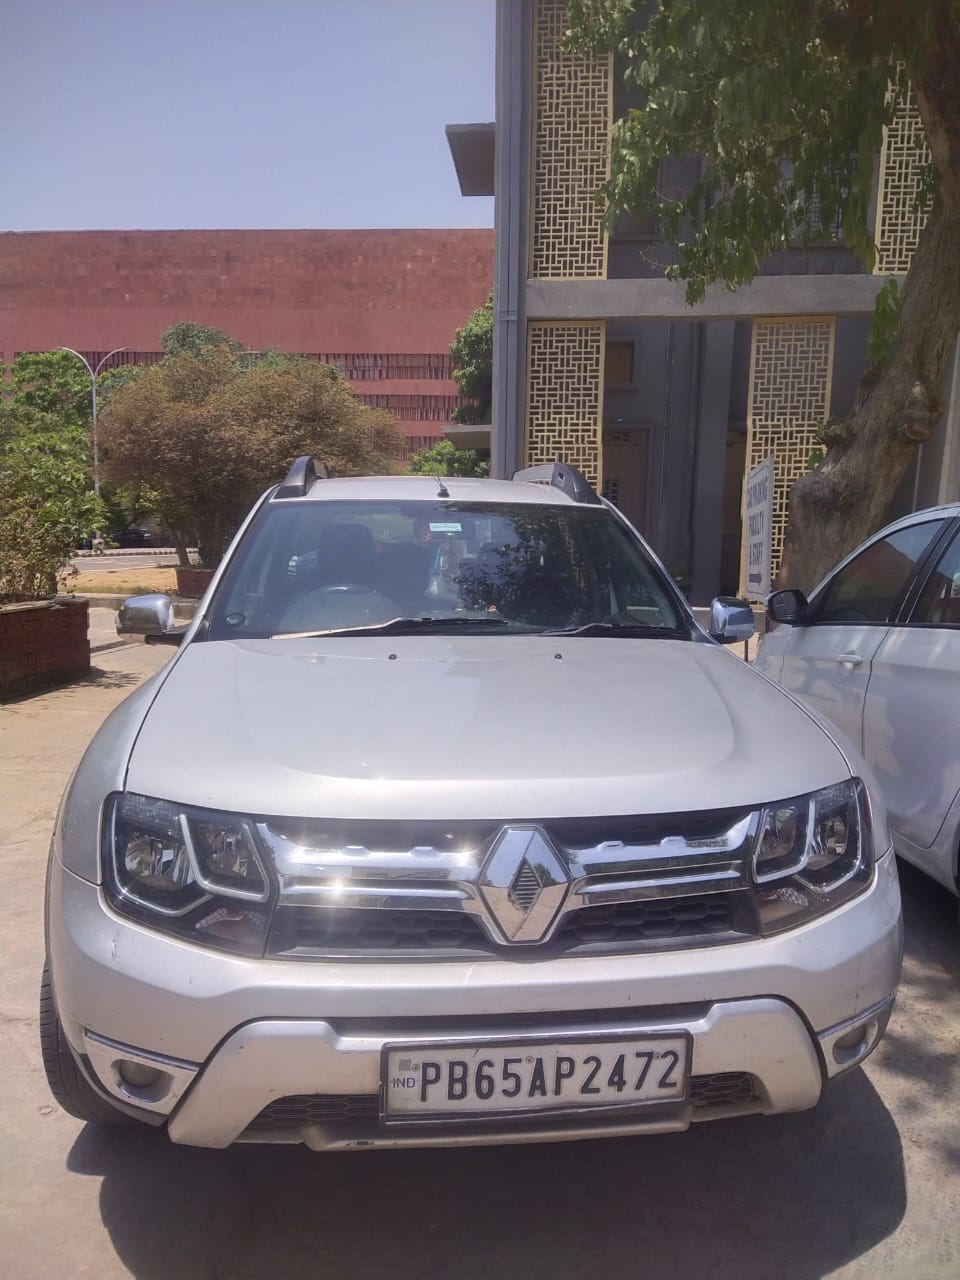license plate: (383, 1033, 690, 1118)
